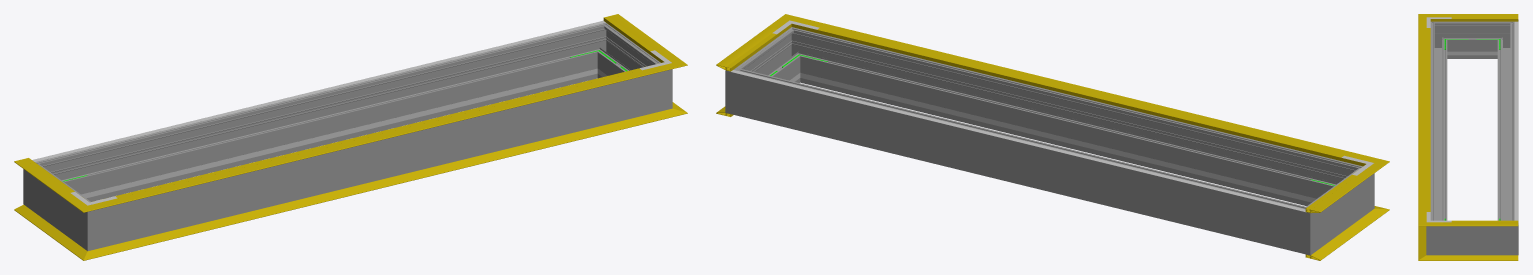
3 renders of one model, left to right at view 1: azimuth 30°, elevation 25°; view 2: azimuth 150°, elevation 25°; view 3: azimuth 270°, elevation 25°, orthographic. The views are drawn at different scales.
Parts seen in each view (by area): view 1: 3DGeom-276, 3DGeom-298, 3DGeom-28, 3DGeom-141, 3DGeom-244, 3DGeom-220, 3DGeom-270, 3DGeom-158, 3DGeom-290, 3DGeom-284, 3DGeom-297, 3DGeom-268 (+5 smaller); view 2: 3DGeom-298, 3DGeom-276, 3DGeom-141, 3DGeom-239, 3DGeom-278, 3DGeom-220, 3DGeom-158, 3DGeom-284, 3DGeom-290, 3DGeom-297, 3DGeom-268, 3DGeom-270 (+4 smaller); view 3: 3DGeom-298, 3DGeom-276, 3DGeom-141, 3DGeom-268, 3DGeom-297, 3DGeom-220, 3DGeom-158, 3DGeom-284, 3DGeom-290, 3DGeom-278, 3DGeom-270, 3DGeom-147 (+12 smaller).
Part boxes in pixels (x1,y1,x2,y2): 3DGeom-276: [56, 29, 592, 201]; 3DGeom-298: [118, 76, 642, 243]; 3DGeom-28: [108, 113, 657, 253]; 3DGeom-141: [108, 68, 657, 205]; 3DGeom-244: [92, 75, 568, 196]; 3DGeom-220: [32, 20, 605, 161]; 3DGeom-270: [70, 194, 117, 251]; 3DGeom-158: [115, 68, 641, 198]; 3DGeom-290: [642, 55, 672, 115]; 3DGeom-284: [581, 23, 620, 79]; 3DGeom-297: [600, 33, 649, 77]; 3DGeom-268: [41, 172, 79, 238]; 3DGeom-298: [805, 33, 1341, 206]; 3DGeom-276: [755, 74, 1285, 247]; 3DGeom-141: [807, 21, 1358, 163]; 3DGeom-239: [829, 80, 1305, 200]; 3DGeom-278: [1280, 198, 1327, 255]; 3DGeom-220: [730, 70, 1305, 211]; 3DGeom-158: [817, 28, 1343, 157]; 3DGeom-284: [725, 59, 761, 119]; 3DGeom-290: [777, 27, 816, 83]; 3DGeom-297: [748, 37, 797, 82]; 3DGeom-268: [1318, 177, 1356, 242]; 3DGeom-270: [1329, 161, 1374, 220]; 3DGeom-298: [1430, 30, 1447, 220]; 3DGeom-276: [1497, 30, 1514, 220]; 3DGeom-141: [1418, 24, 1426, 215]; 3DGeom-268: [1451, 21, 1493, 58]; 3DGeom-297: [1451, 226, 1493, 255]; 3DGeom-220: [1514, 21, 1518, 222]; 3DGeom-158: [1426, 28, 1430, 211]; 3DGeom-284: [1493, 214, 1518, 255]; 3DGeom-290: [1426, 214, 1451, 255]; 3DGeom-278: [1493, 20, 1518, 58]; 3DGeom-270: [1430, 21, 1451, 58]; 3DGeom-147: [1443, 14, 1518, 21].
Bounding box in the file's own units: 3.05 × 0.2357 × 0.6096.
